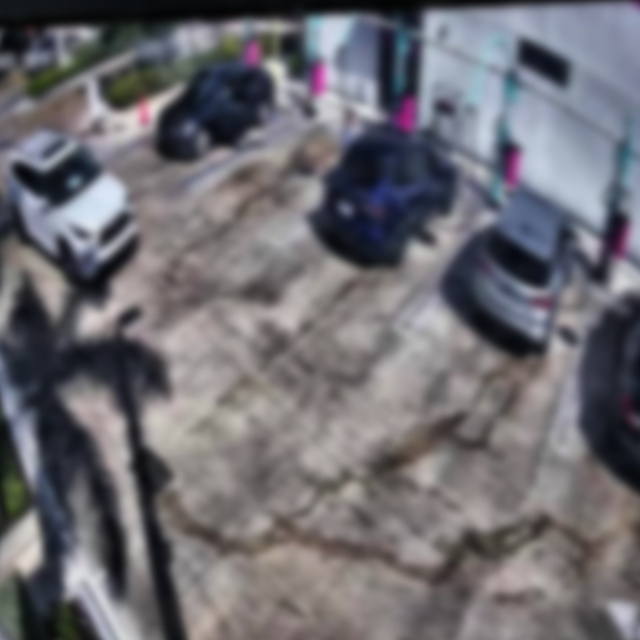Car: (320, 119, 455, 272), (475, 178, 575, 352), (164, 68, 274, 174)
